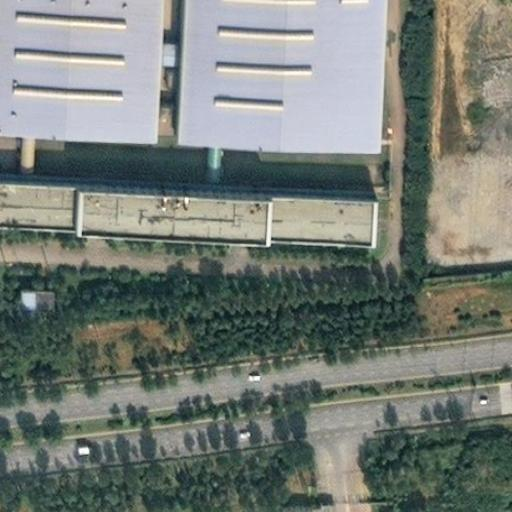building: (163, 0, 370, 128), (16, 287, 56, 317), (139, 88, 164, 119), (142, 21, 167, 46), (270, 495, 298, 512), (298, 491, 319, 507)
